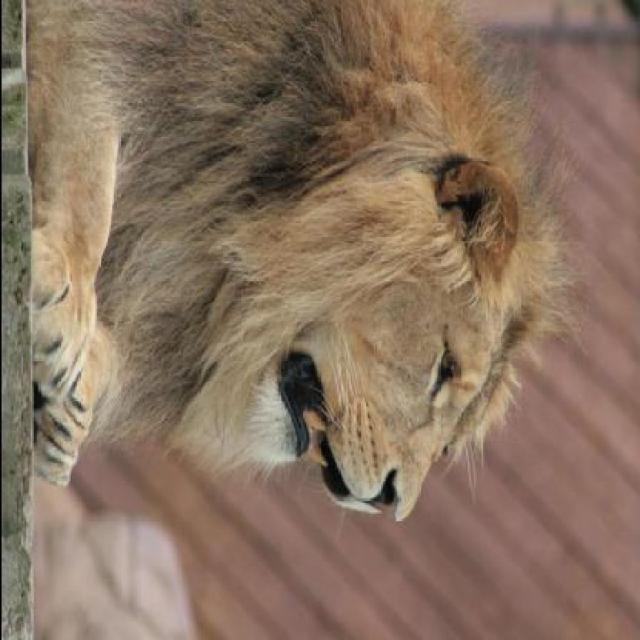Lion: (2, 2, 586, 556)
